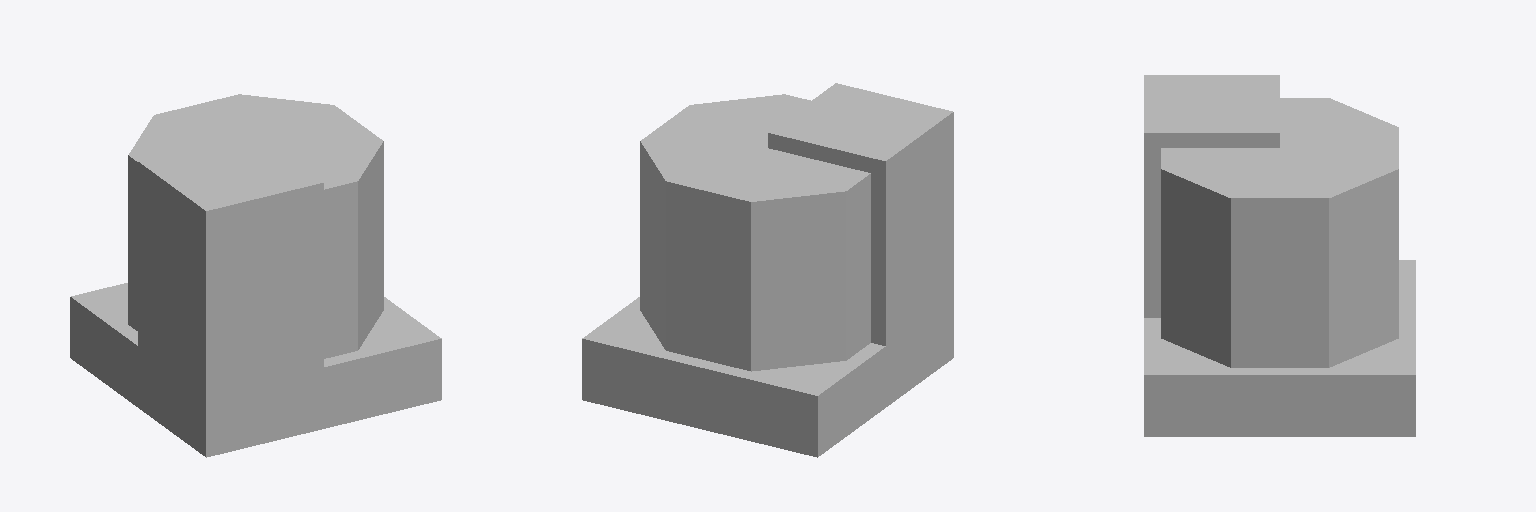
The model's file is redstone_generator.obj.
3 views of the same model, side by side, from view 1: azimuth 30°, elevation 25°; view 2: azimuth 150°, elevation 25°; view 3: azimuth 270°, elevation 25° (orthographic).
Visible parts, largest first — view 1: cuboid, cylinder; view 2: cylinder, cuboid; view 3: cylinder, cuboid.
Boxes of the visible parts, x1,y1,x2,y2 form: cuboid: [70, 133, 441, 457]; cylinder: [128, 94, 383, 358]; cylinder: [640, 94, 870, 371]; cuboid: [582, 83, 953, 457]; cylinder: [1161, 98, 1398, 367]; cuboid: [1144, 75, 1415, 436].
Size of the model in its own units: 2 by 2 by 2.